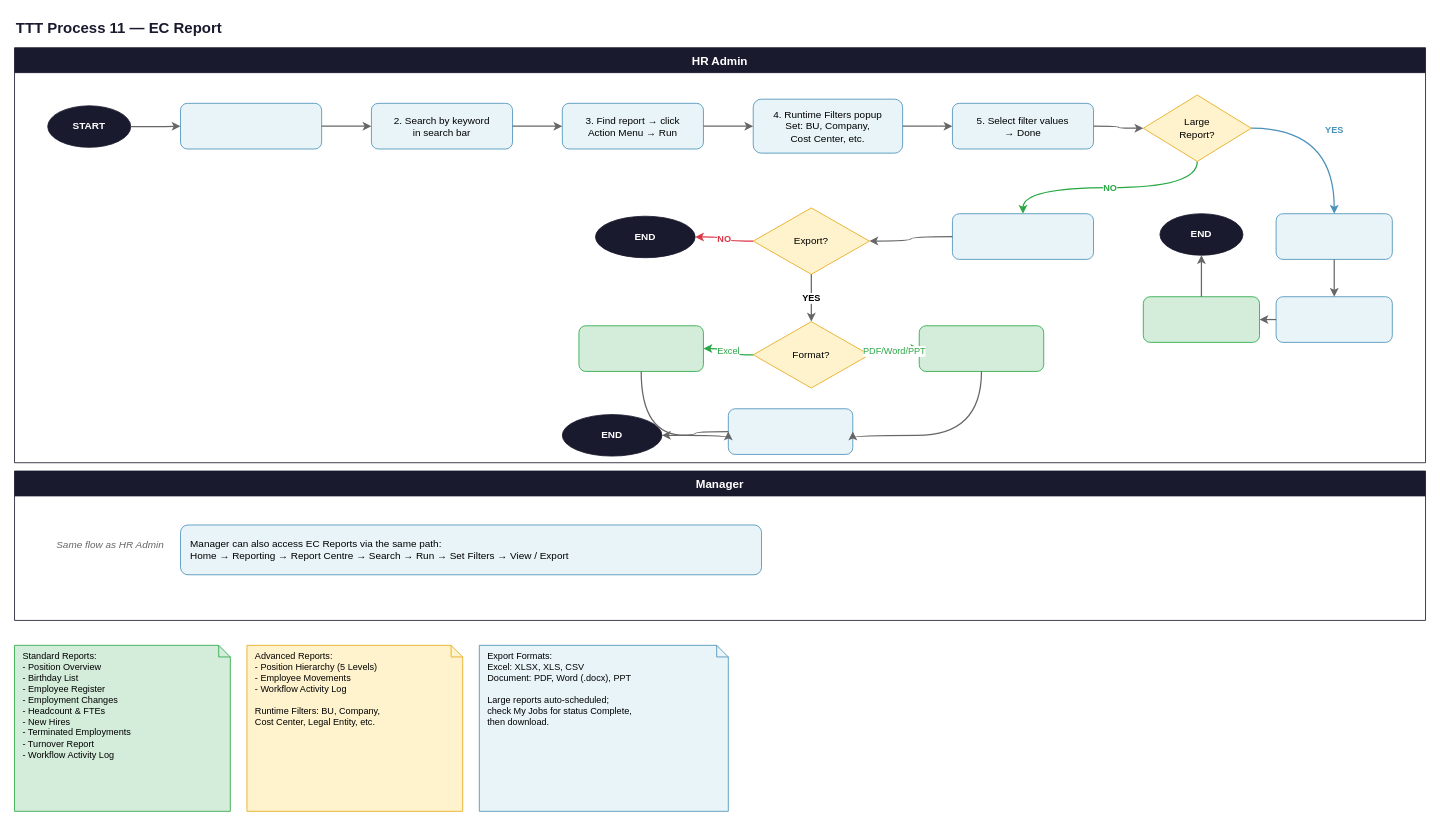
The diagram is 1440 pixels wide and 826 high, and some of its shapes have lost their labels. The shapes that lost their labels are listed below. From the top down, each one's centre as x and y in pixels, then its label:
At point (251, 126): "1. Home → Reporting → Report Centre".
At point (1023, 236): "6. View Results Table".
At point (1333, 236): "Auto-Scheduled (Large Report)".
At point (1201, 319): "Wait: Status = Complete → Download".
At point (1333, 319): "View Schedules → My Jobs".
At point (640, 348): "Excel (XLSX / XLS / CSV)".
At point (981, 348): "PDF / Word / PPT".
At point (790, 431): "Download File".
